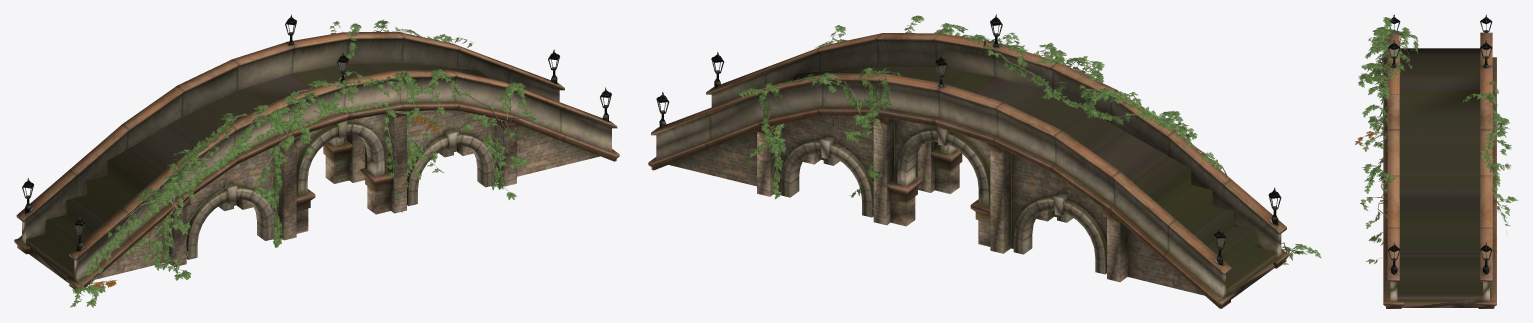
File: dreamy_bridge.glb
The picture shows the model from 3 angles, left to right: view 1: azimuth 30°, elevation 25°; view 2: azimuth 150°, elevation 25°; view 3: azimuth 270°, elevation 25°; orthographic projection. The views are drawn at different scales.
Parts seen in each view (by area): view 1: Object_6, Object_10, Object_8; view 2: Object_6, Object_10, Object_8; view 3: Object_6, Object_10, Object_8.
Boxes of the visible parts, left/top/right/bottom form: Object_6: left=14, top=14, right=619, bottom=290; Object_10: left=70, top=19, right=537, bottom=307; Object_8: left=78, top=21, right=532, bottom=297; Object_6: left=648, top=14, right=1289, bottom=308; Object_10: left=735, top=15, right=1321, bottom=264; Object_8: left=747, top=20, right=1308, bottom=262; Object_6: left=1383, top=14, right=1496, bottom=308; Object_10: left=1358, top=17, right=1518, bottom=263; Object_8: left=1362, top=22, right=1507, bottom=259.
Bounding box in the file's own units: 289 × 87.93 × 83.45.
5 materials, 4 textured.
